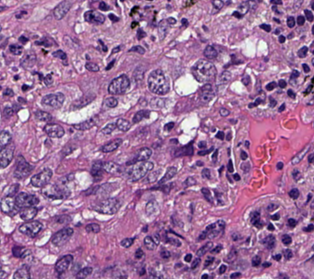nucleus: (192, 59, 216, 81), (148, 69, 169, 94), (127, 161, 153, 180), (127, 147, 151, 164), (42, 184, 69, 199), (108, 75, 129, 94), (14, 156, 32, 178), (31, 168, 52, 186), (51, 227, 72, 245), (15, 192, 38, 208), (95, 198, 119, 213), (204, 220, 224, 238), (41, 93, 64, 108), (19, 221, 42, 236), (0, 144, 14, 168), (55, 254, 72, 273), (72, 94, 94, 108), (159, 166, 176, 183), (101, 138, 121, 152), (1, 197, 17, 214), (21, 51, 36, 68), (19, 206, 37, 220), (200, 83, 213, 102), (44, 124, 63, 137), (103, 161, 123, 173), (196, 241, 212, 256), (73, 119, 94, 130), (91, 161, 103, 180), (14, 264, 29, 278), (132, 110, 149, 122), (175, 143, 192, 155), (133, 64, 145, 80), (34, 110, 51, 121), (12, 246, 29, 257), (116, 118, 130, 131), (144, 170, 159, 182), (251, 211, 262, 227), (164, 234, 180, 245), (76, 267, 92, 278), (0, 131, 10, 148), (144, 236, 157, 249), (101, 123, 116, 134), (204, 45, 216, 58), (218, 71, 230, 84), (59, 173, 73, 184), (201, 188, 212, 202), (225, 248, 236, 262), (36, 38, 54, 46), (6, 184, 18, 196), (156, 184, 172, 193), (146, 201, 157, 214), (263, 235, 274, 248), (103, 97, 117, 107), (85, 223, 99, 232), (129, 45, 144, 53), (9, 45, 22, 54), (53, 50, 66, 59), (85, 62, 98, 71), (120, 238, 133, 247), (2, 107, 13, 117), (63, 145, 75, 154), (85, 186, 98, 194), (57, 215, 70, 223), (43, 74, 52, 85), (184, 177, 195, 186), (191, 257, 200, 268), (198, 148, 212, 155), (201, 168, 210, 178), (204, 256, 213, 266), (210, 245, 221, 253), (160, 249, 169, 258), (137, 29, 145, 39), (3, 88, 13, 96), (135, 248, 143, 258), (252, 256, 260, 266), (113, 271, 126, 277), (106, 60, 114, 69), (266, 82, 275, 90), (219, 108, 228, 116), (164, 122, 173, 130), (99, 40, 106, 50), (227, 160, 233, 171), (216, 131, 224, 139), (241, 163, 249, 171), (242, 76, 249, 85), (267, 204, 277, 210), (230, 272, 240, 278), (19, 36, 27, 43), (278, 80, 286, 87), (219, 265, 226, 273), (138, 266, 145, 274), (212, 149, 217, 160), (269, 97, 275, 106), (278, 35, 285, 42), (184, 254, 191, 261), (241, 151, 247, 159), (112, 46, 119, 52), (278, 104, 284, 111), (276, 162, 282, 169), (271, 214, 279, 219), (233, 174, 239, 180), (274, 254, 280, 260), (22, 85, 29, 90), (248, 102, 255, 107), (198, 142, 205, 147), (263, 262, 270, 267), (268, 224, 273, 230), (201, 274, 208, 278), (18, 98, 24, 101), (171, 139, 176, 142), (245, 141, 248, 146), (197, 162, 201, 165)
